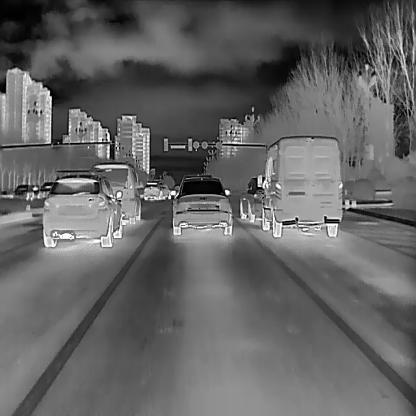car: (254, 134, 342, 237), (40, 173, 125, 248), (168, 175, 233, 235), (88, 160, 142, 224), (238, 174, 268, 221), (142, 177, 171, 201), (12, 184, 34, 200), (39, 180, 54, 198)
